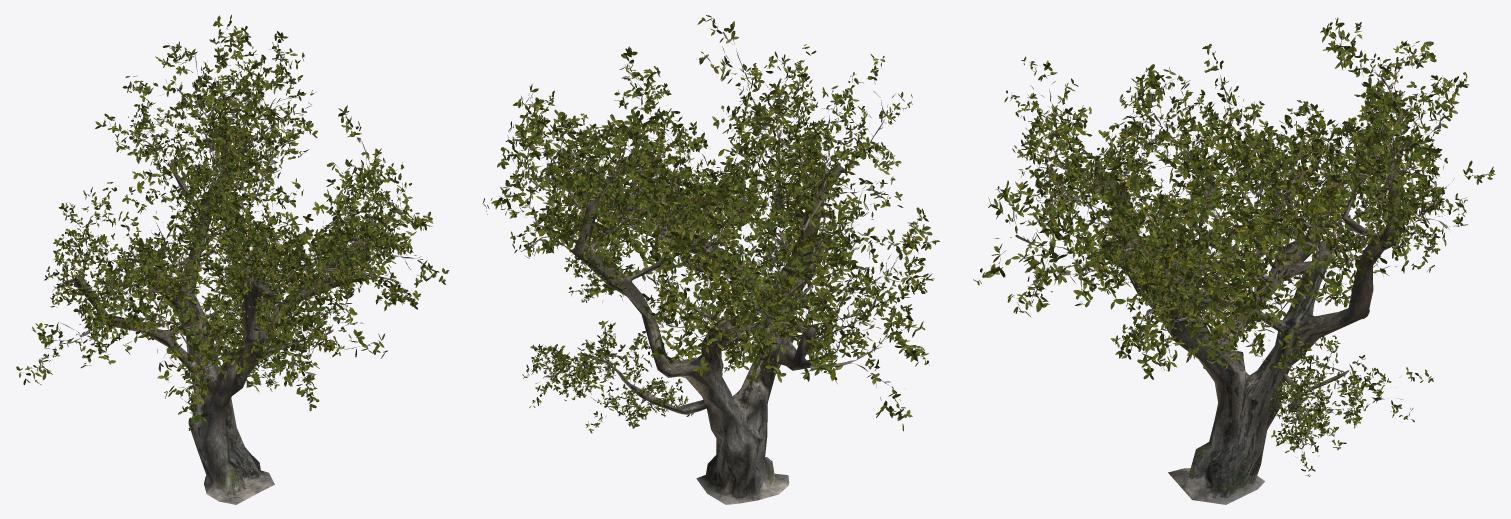
File: island_tree_01_detail.gltf
3 views of the same model, side by side, from view 1: azimuth 30°, elevation 25°; view 2: azimuth 150°, elevation 25°; view 3: azimuth 270°, elevation 25° (orthographic). The views are drawn at different scales.
Visible parts, largest first — view 1: baum; view 2: baum; view 3: baum.
Part boxes in pixels (x1,y1,x2,y2): baum: (16,15,449,504); baum: (482,15,939,504); baum: (973,17,1495,504).
Size of the model in its own units: 4.78 by 5.04 by 4.84.
Materials: 3 (3 with a texture image).
